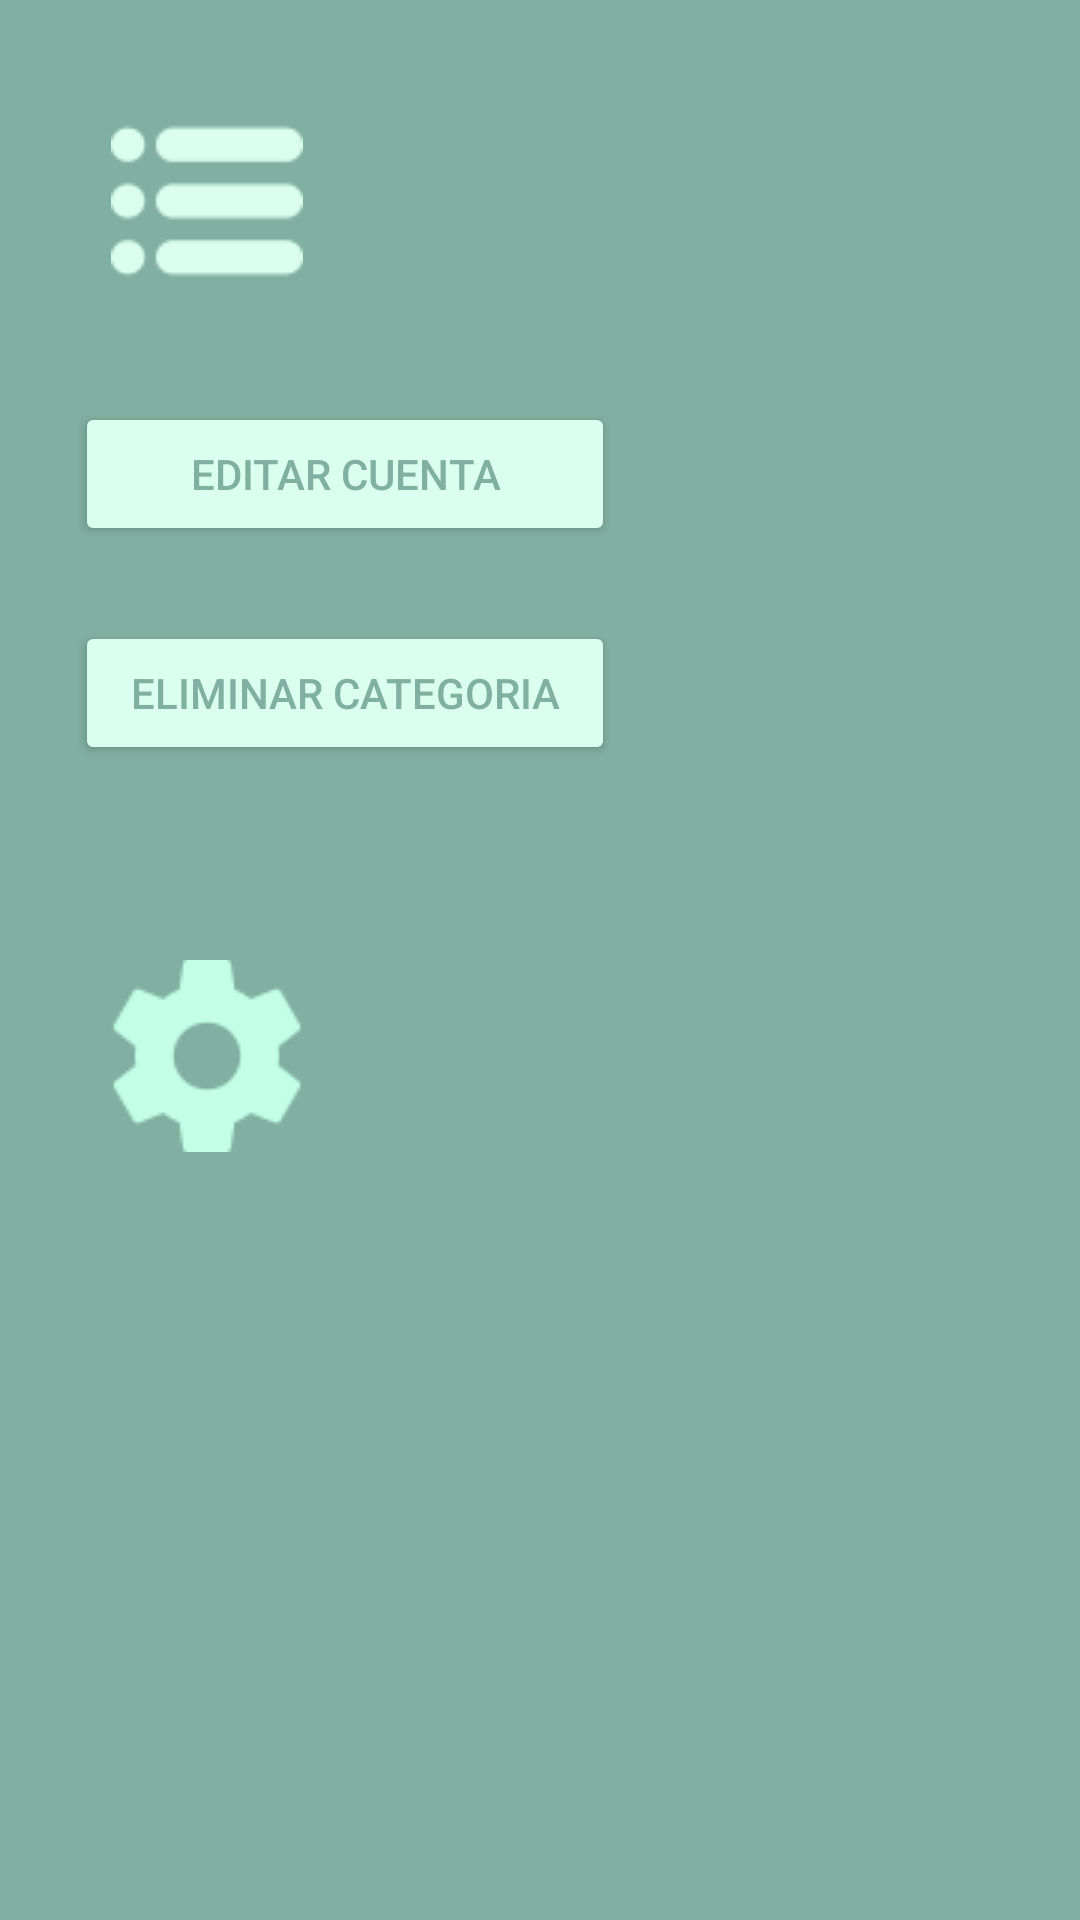

Icons on this 1080px×1920px Android screen, each with the point to tap as point (x, y):
menu: point (207, 200)
options: point (207, 1056)
